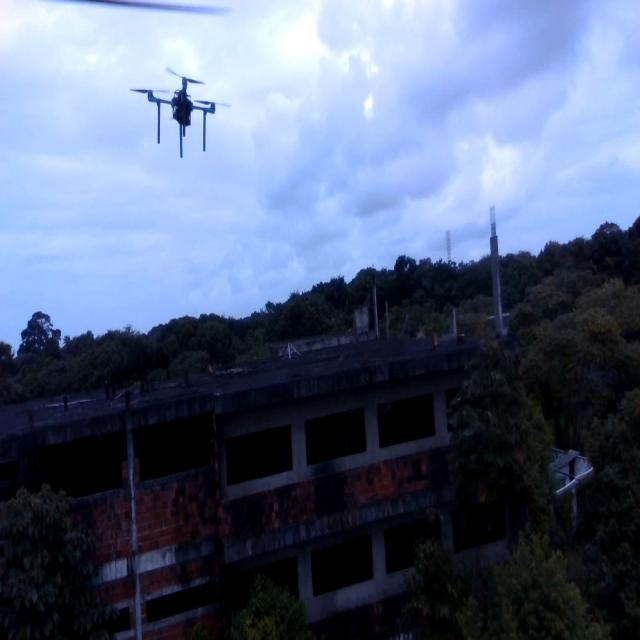-uav-: (122, 49, 232, 170)
